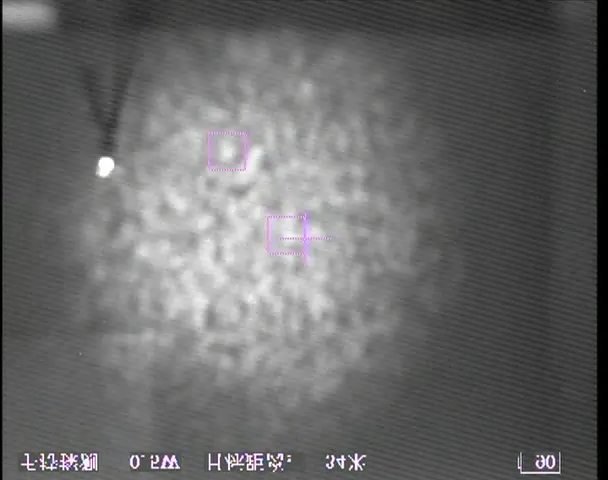my: (95, 155, 115, 179)
